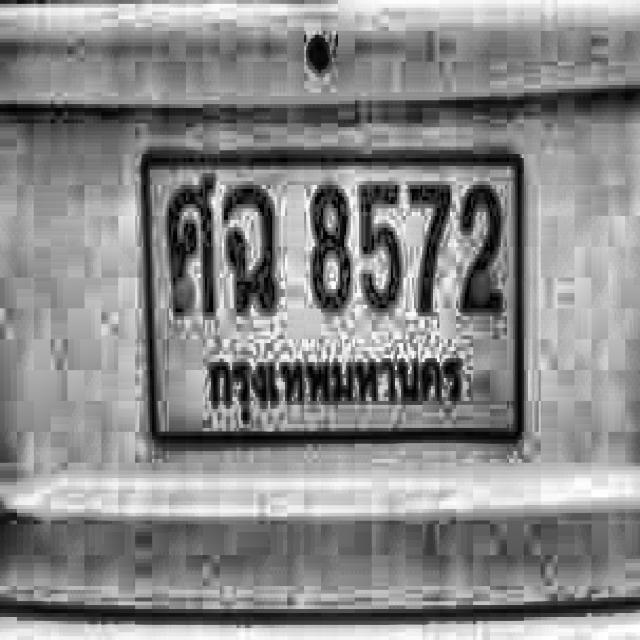license-plate: (140, 153, 524, 441)
